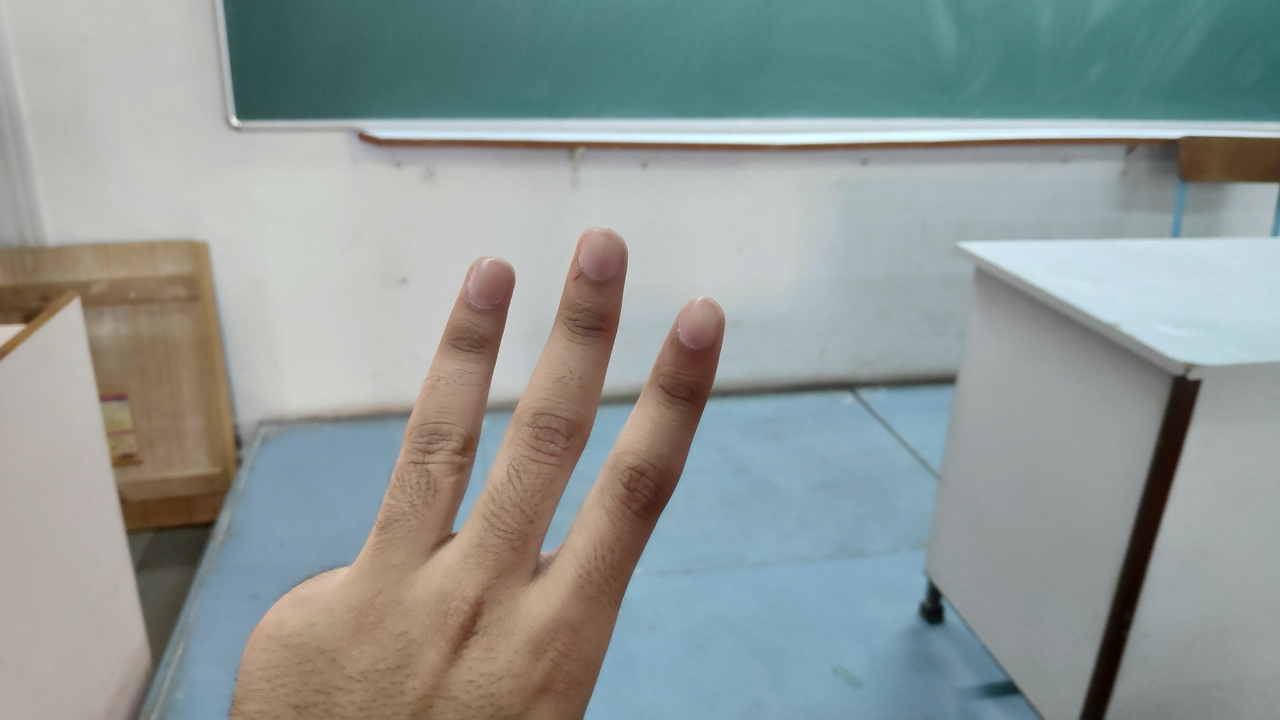fingertip: (558, 222, 632, 288), (450, 248, 518, 314), (662, 292, 730, 356)
